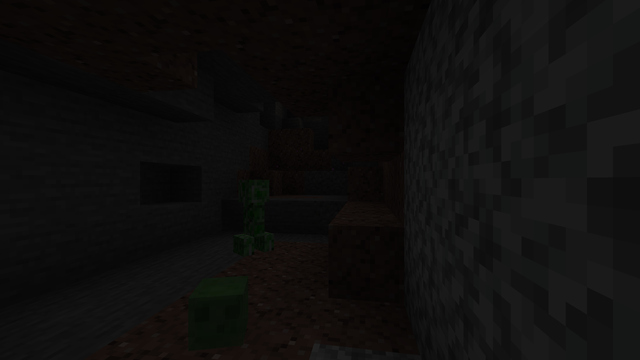creepers: (234, 176, 270, 255)
slimes: (182, 273, 254, 351)
